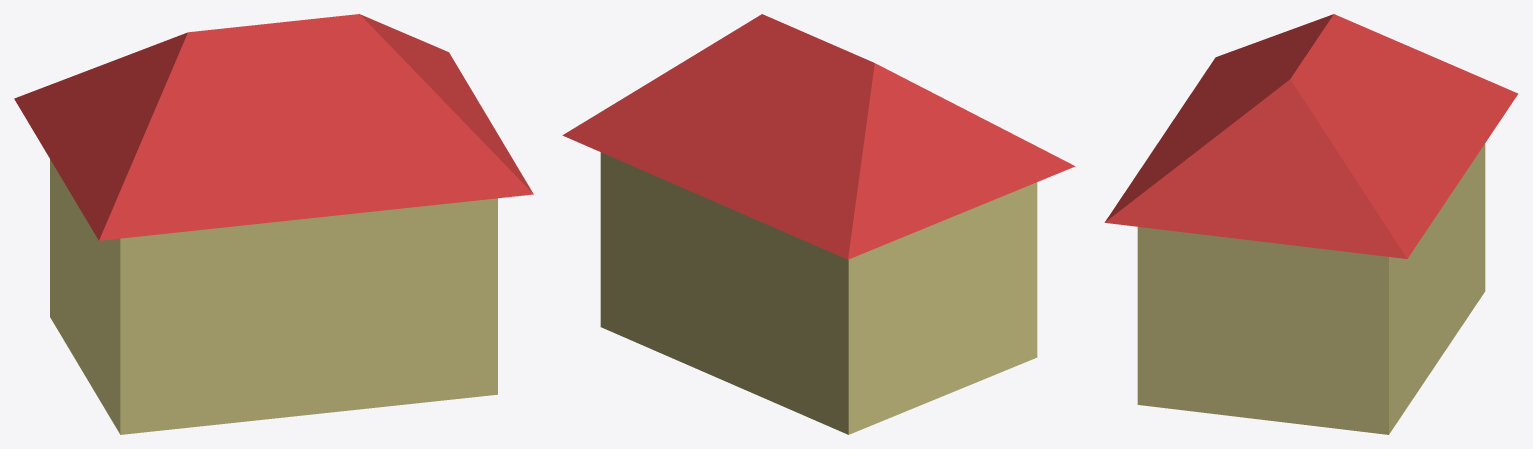
3 renders of one model, left to right at view 1: azimuth 30°, elevation 25°; view 2: azimuth 150°, elevation 25°; view 3: azimuth 270°, elevation 25°, orthographic. The views are drawn at different scales.
Parts seen in each view (by area): view 1: group_5, group_3, group_4; view 2: group_5, group_3, group_4; view 3: group_5, group_3, group_4.
Part boxes in pixels (left/top/right/bottom): group_5: left=50, top=159, right=497, bottom=434; group_3: left=52, top=14, right=533, bottom=240; group_4: left=14, top=44, right=533, bottom=240; group_5: left=600, top=152, right=1037, bottom=434; group_3: left=567, top=14, right=1031, bottom=259; group_4: left=562, top=113, right=1075, bottom=259; group_5: left=1137, top=143, right=1485, bottom=434; group_3: left=1105, top=14, right=1517, bottom=258; group_4: left=1105, top=48, right=1516, bottom=258.
Size of the model in its own units: 17.75 by 15.39 by 12.37.
